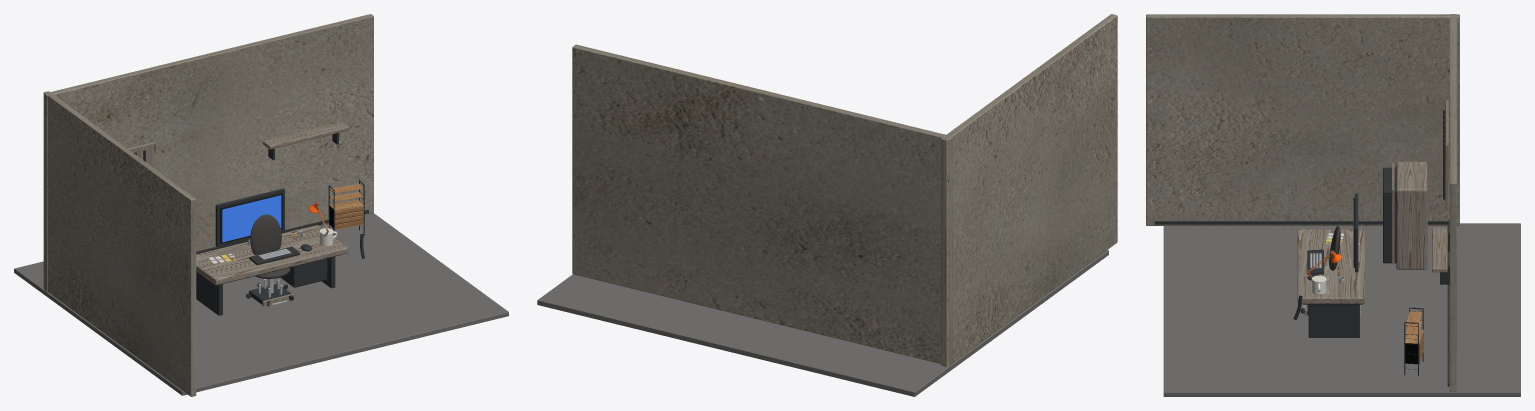
Rendered from study-hub-home-v30.glb.
3 views of the same model, side by side, from view 1: azimuth 30°, elevation 25°; view 2: azimuth 150°, elevation 25°; view 3: azimuth 270°, elevation 25° (orthographic). The views are drawn at different scales.
Parts seen in each view (by area): view 1: Architecture_BackWall, Architecture_LeftWall, Architecture_Floor, Desk_WalnutTop, Monitor_Info_Plane, drawer_cabinet, Chair_Back_Curved, Architecture_Shelf_Walnut, Desk_DrawerCarcass, Desk_Frame_L, Monitor_Frame; view 2: Architecture_BackWall, Architecture_LeftWall, Architecture_Floor; view 3: Architecture_LeftWall, Architecture_Floor, Desk_WalnutTop, Cabinet_Custom_Body, Architecture_BackWall, Desk_Frame_R, Cabinet_Custom_Inner, drawer_cabinet, Architecture_LeftShadowGap, Architecture_Shelf_Walnut, Architecture_WalnutPanel, Architecture_BackShadowGap (+1 smaller).
Boxes of the visible parts, x1,y1,x2,y2 form: Architecture_BackWall: (44, 14, 373, 292); Architecture_LeftWall: (43, 91, 196, 396); Architecture_Floor: (14, 213, 508, 395); Desk_WalnutTop: (196, 225, 348, 285); Monitor_Info_Plane: (222, 195, 281, 242); drawer_cabinet: (328, 180, 364, 235); Chair_Back_Curved: (250, 214, 281, 254); Architecture_Shelf_Walnut: (262, 122, 349, 149); Desk_DrawerCarcass: (280, 258, 327, 287); Desk_Frame_L: (196, 271, 222, 315); Monitor_Frame: (215, 188, 284, 246); Architecture_BackWall: (572, 44, 952, 366); Architecture_LeftWall: (941, 14, 1117, 366); Architecture_Floor: (537, 250, 1108, 396); Architecture_LeftWall: (1146, 14, 1459, 225); Architecture_Floor: (1163, 223, 1520, 396); Desk_WalnutTop: (1297, 229, 1364, 303); Cabinet_Custom_Body: (1396, 161, 1427, 269); Architecture_BackWall: (1450, 14, 1456, 391); Desk_Frame_R: (1308, 304, 1359, 337); Cabinet_Custom_Inner: (1383, 167, 1396, 263); drawer_cabinet: (1404, 307, 1423, 376); Architecture_LeftShadowGap: (1154, 221, 1449, 224); Architecture_Shelf_Walnut: (1432, 227, 1447, 272); Architecture_WalnutPanel: (1445, 100, 1448, 209); Architecture_BackShadowGap: (1447, 221, 1449, 386).
Bounding box in the file's own units: 9.2 × 5.97 × 8.6.
15 materials, 7 textured.
